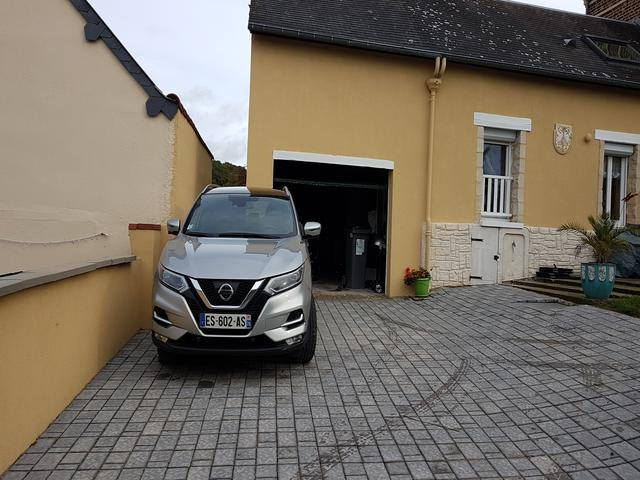Quashquai: (195, 303, 256, 335)
